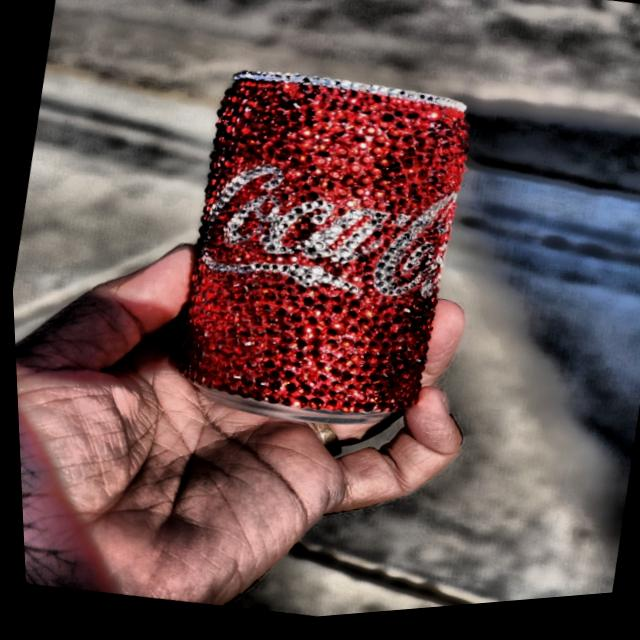Cans: (145, 47, 488, 457)
